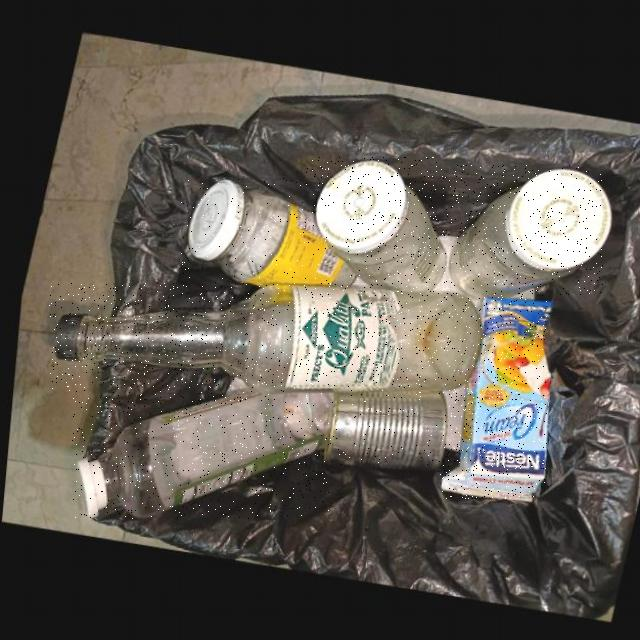glass: (50, 283, 479, 392), (73, 391, 329, 518), (441, 165, 604, 297), (182, 178, 349, 286), (307, 157, 439, 290)
metal: (321, 387, 443, 469)
paper: (438, 294, 547, 499)
